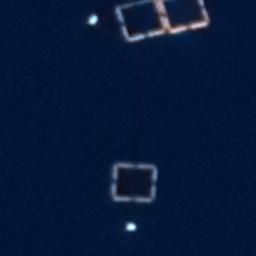square_solid: (106, 156, 163, 210), (110, 1, 171, 43), (151, 1, 215, 37)
